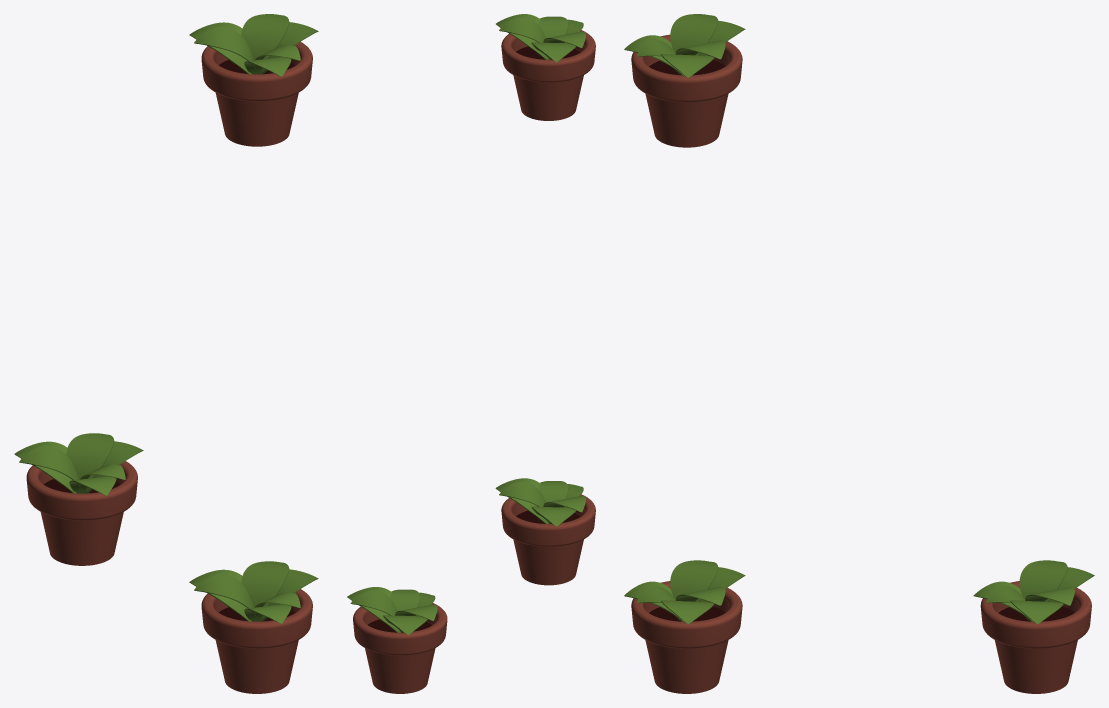
File: Room3-Flower6.glb
3 renders of one model, left to right at view 1: azimuth 30°, elevation 25°; view 2: azimuth 150°, elevation 25°; view 3: azimuth 270°, elevation 25°, orthographic. The views are drawn at different scales.
Parts seen in each view (by area): view 1: Dirt7.001, Dirt7.002, Dirt7.003; view 2: Dirt7.001, Dirt7.002, Dirt7.003; view 3: Dirt7.003, Dirt7.001, Dirt7.002.
Part boxes in pixels (<box>): Dirt7.001: <box>14,433,143,565</box>; Dirt7.002: <box>189,14,318,146</box>; Dirt7.003: <box>189,561,318,693</box>; Dirt7.001: <box>347,587,447,693</box>; Dirt7.002: <box>496,14,595,120</box>; Dirt7.003: <box>495,478,595,585</box>; Dirt7.003: <box>624,560,745,693</box>; Dirt7.001: <box>973,560,1094,693</box>; Dirt7.002: <box>624,14,745,147</box>.
Size of the model in its own units: 1.95 by 10.66 by 7.03.
